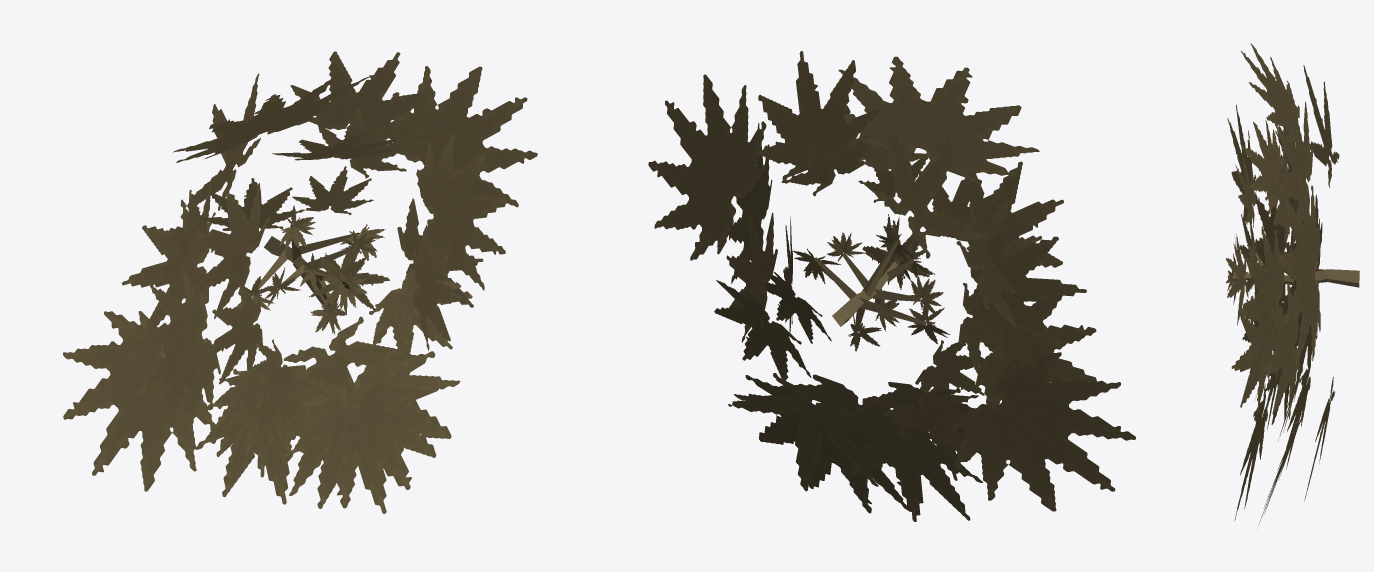
Rendered from p_haze_vegetative_c4_cards.obj.
3 renders of one model, left to right at view 1: azimuth 30°, elevation 25°; view 2: azimuth 150°, elevation 25°; view 3: azimuth 270°, elevation 25°, orthographic. The views are drawn at different scales.
Bounding box in the file's own units: 1.35 × 1.21 × 0.3.
Materials: 1 (1 with a texture image).
